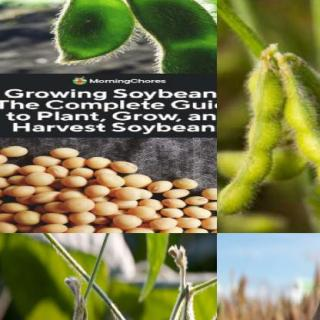soya: (217, 70, 285, 214), (108, 0, 216, 74), (54, 0, 134, 62), (280, 74, 319, 200), (260, 236, 319, 319), (217, 153, 305, 181), (291, 53, 319, 128)
